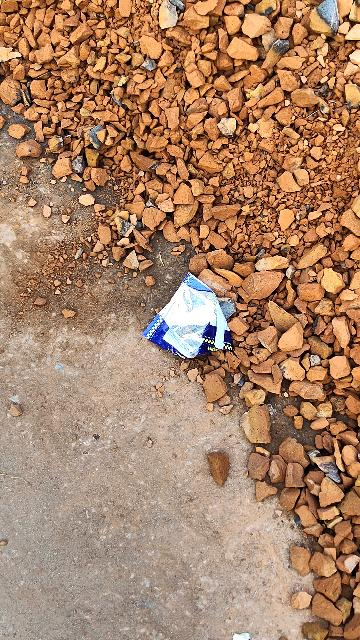packet: (150, 281, 231, 361)
